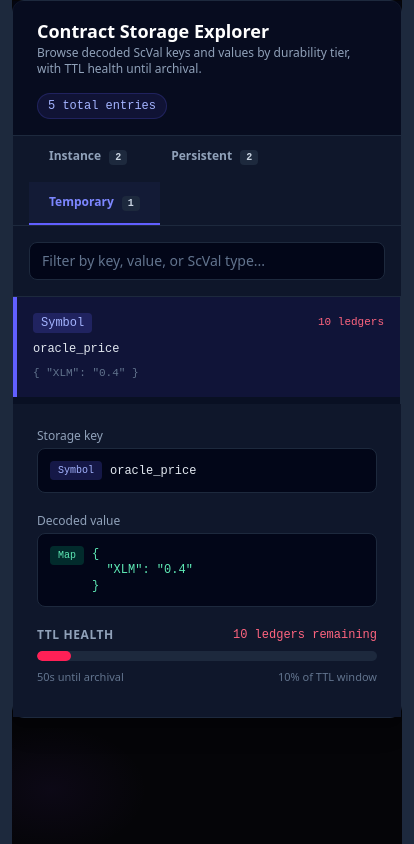
ContractStorageExplorer › filters storage entries by key/value text within the active tier
The width and height of the screenshot is (414, 844).
Type "oracle" into the search field with test id "storage-filter-input".
click(207, 261); type("oracle")  # box [29,242,385,280]
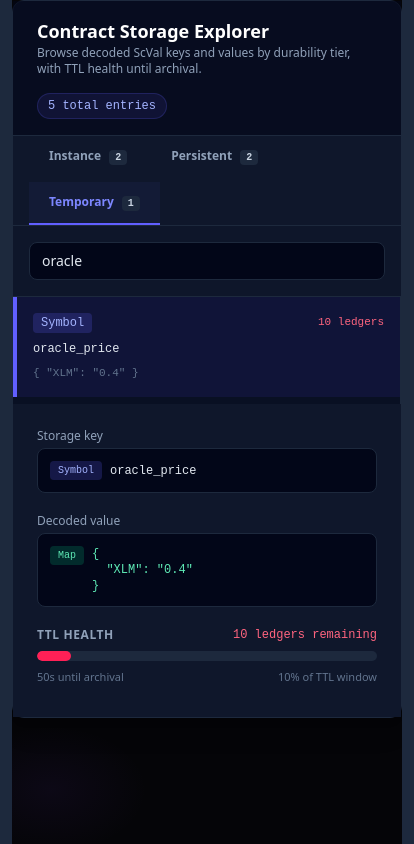
Expected: the button with test id "storage-entry-temp-oracle" is shown, [13,297,400,397]
Replace the text in the search field with test id "storage-filter-input" with "9000" at (207, 261), box [29,242,385,280]
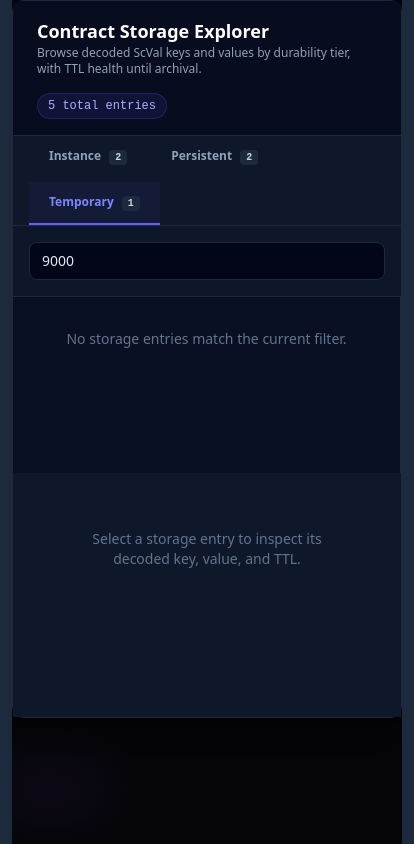
Expected: the text "No storage entries match the current filter." is shown, [66,329,347,348]
Expected: the button with test id "storage-entry-temp-oracle" is gone
